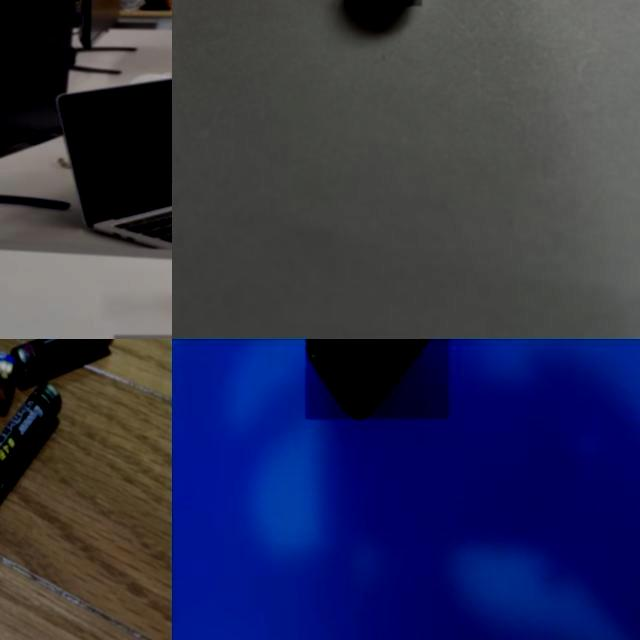9V: (306, 339, 449, 419)
